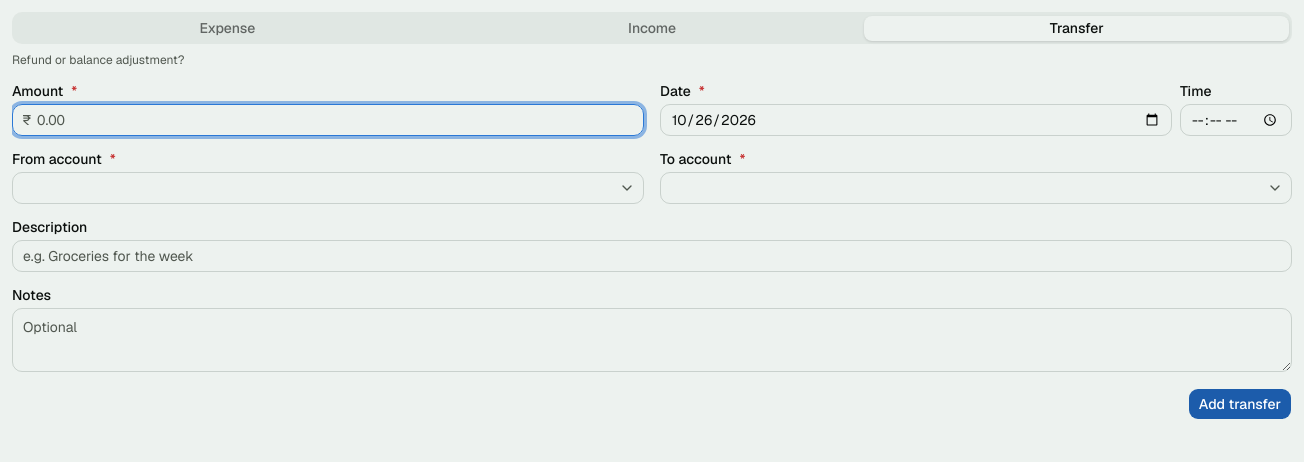
Test: TransactionForm › requires both accounts for a transfer
The width and height of the screenshot is (1304, 462).
Type "100" into the field labelled "Amount *". click: (328, 120)
box: [12, 104, 644, 136]
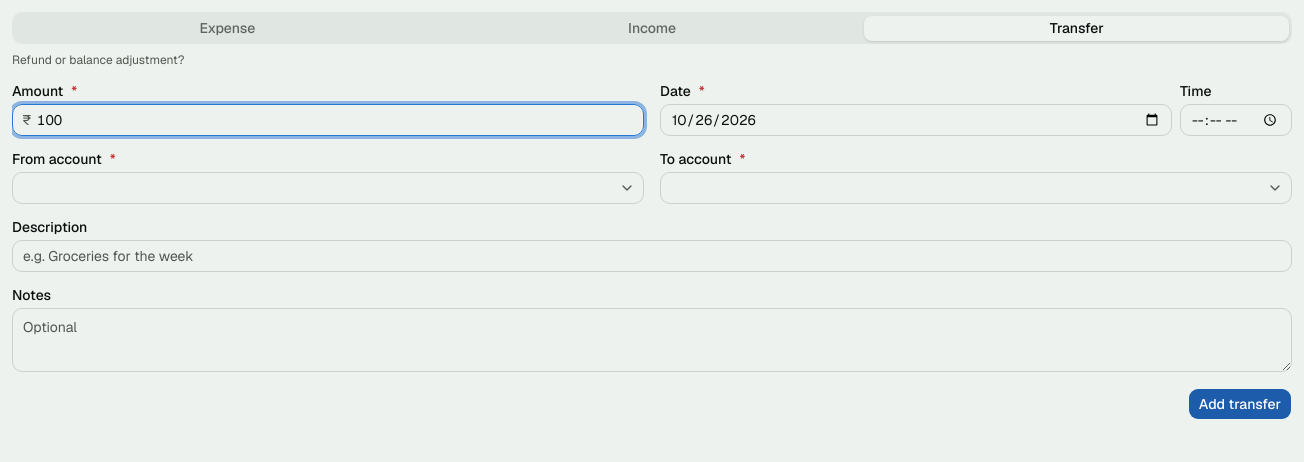
Click the button "Add transfer". click: (1240, 404)
box: [1188, 388, 1292, 420]
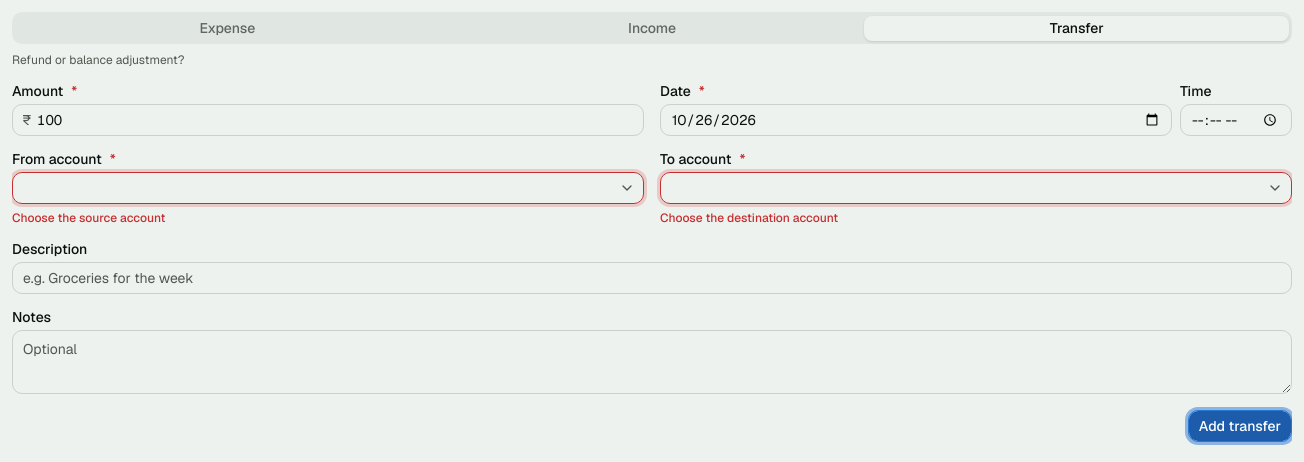
Now the text "Choose the source account" is shown, box [12, 210, 166, 226]
Now the text "Choose the destination account" is shown, box [660, 210, 838, 226]
